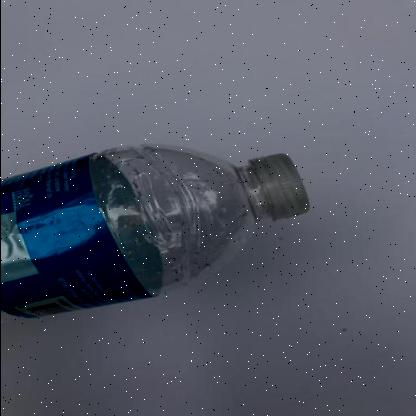Plastic Bottle: (0, 146, 308, 318)
